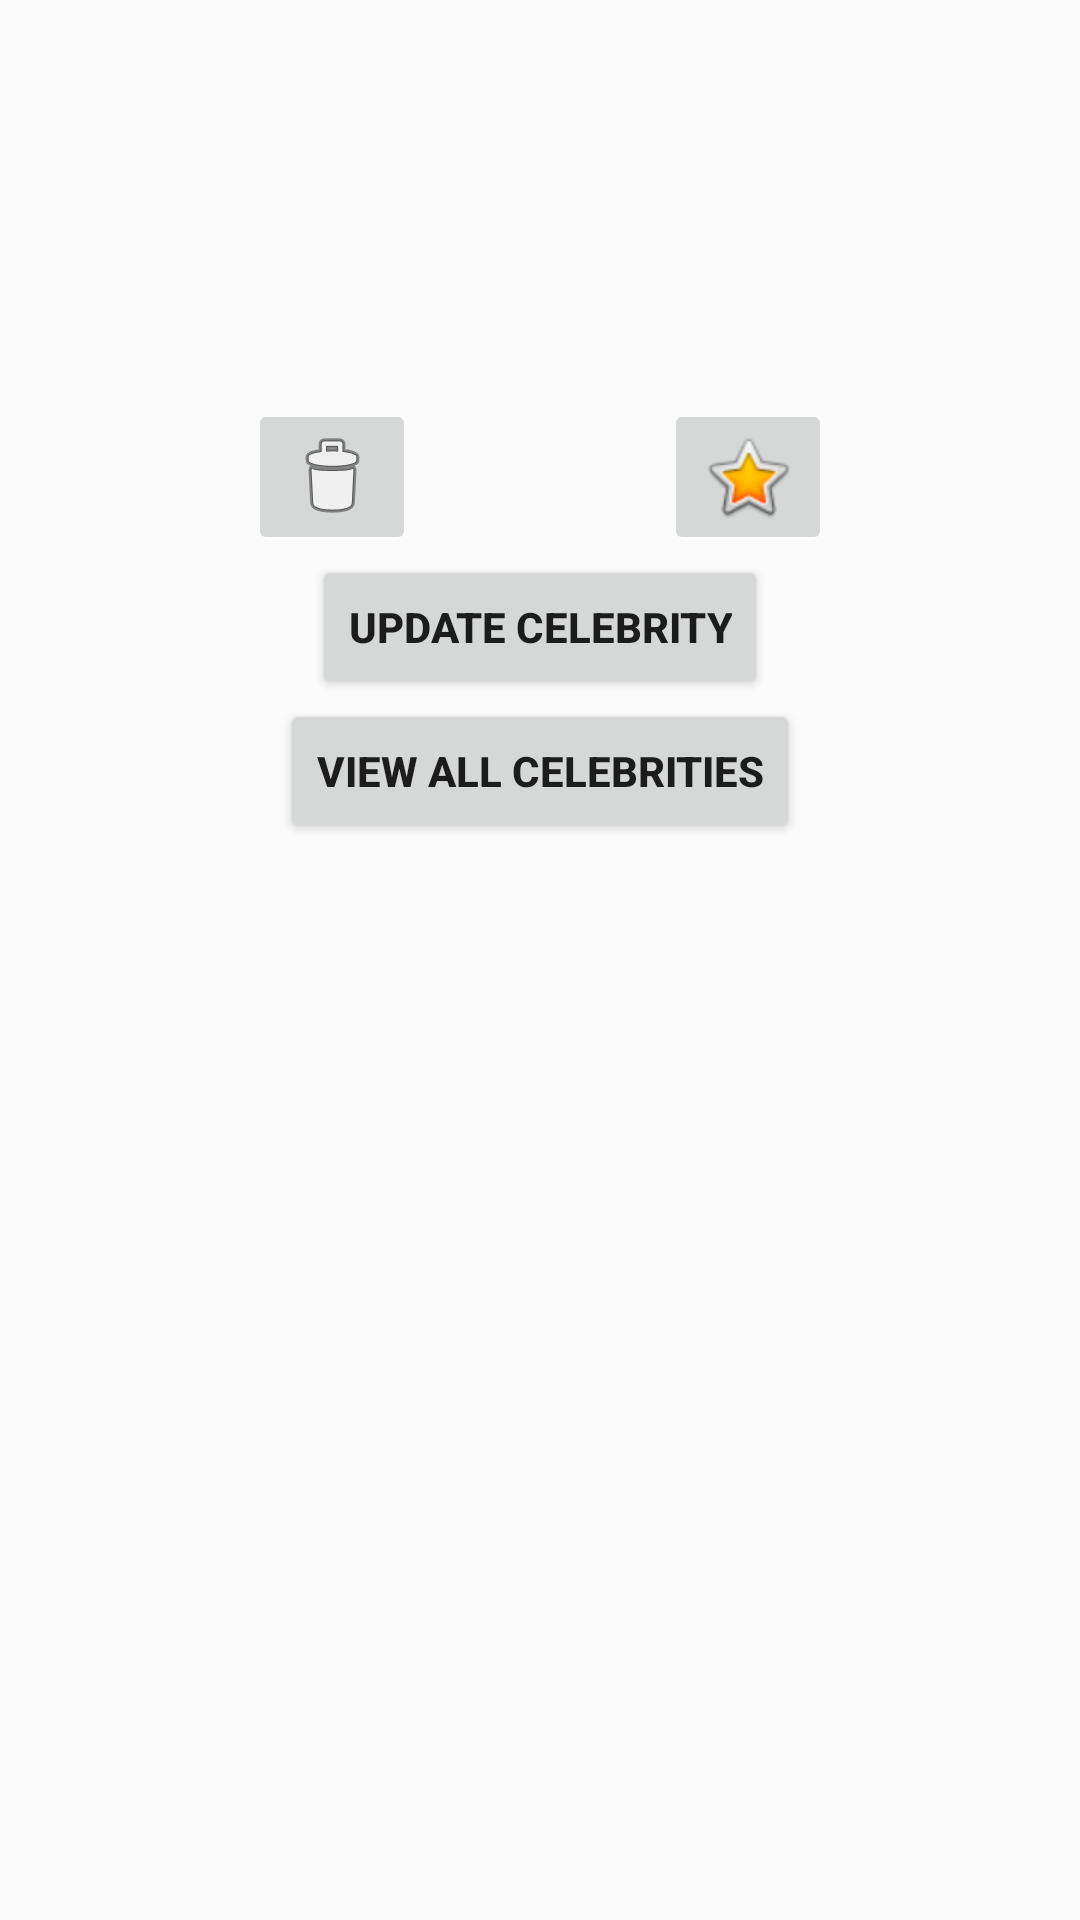

Screen size 1080 × 1920. Icon name, then its center in pixels as point (x, y):
delete: point (332, 477)
star on: point (748, 477)
